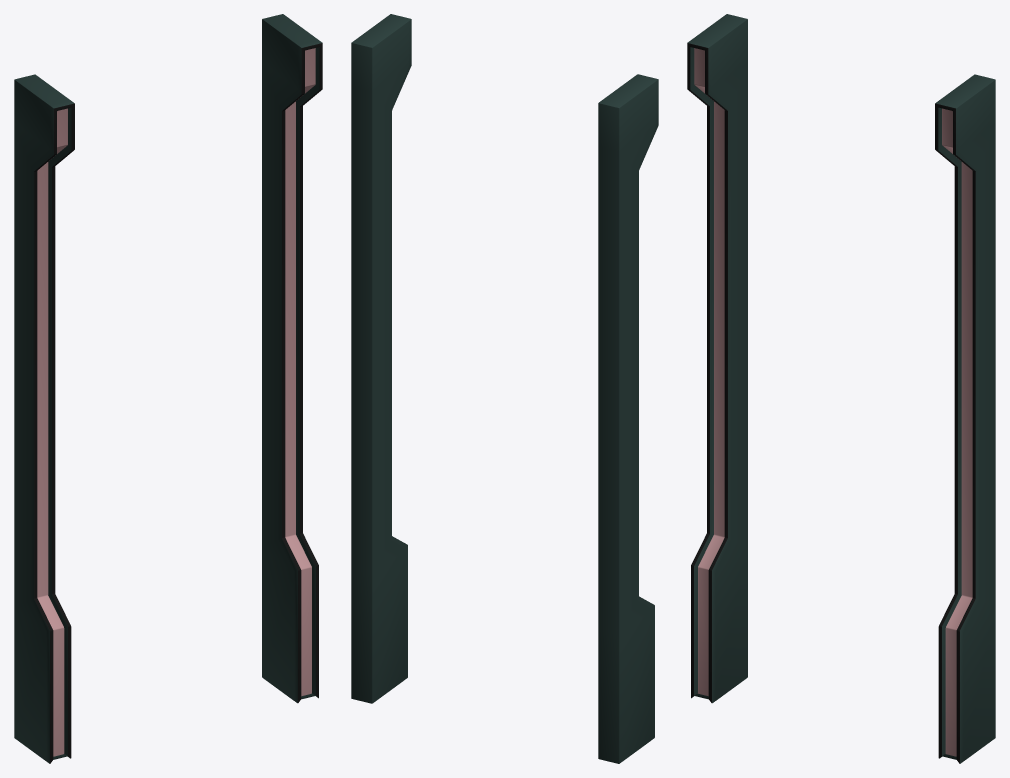
Rendered from partie des mrs 1.fbx.
3 views of the same model, side by side, from view 1: azimuth 30°, elevation 25°; view 2: azimuth 150°, elevation 25°; view 3: azimuth 330°, elevation 25° (orthographic).
Parts seen in each view (by area): view 1: Box014; view 2: Box014; view 3: Box014.
Part boxes in pixels (x1,y1,x2,y2): Box014: (14,14,322,763); Box014: (351,14,658,763); Box014: (687,14,995,763).
Size of the model in its own units: 423 by 990 by 108.
